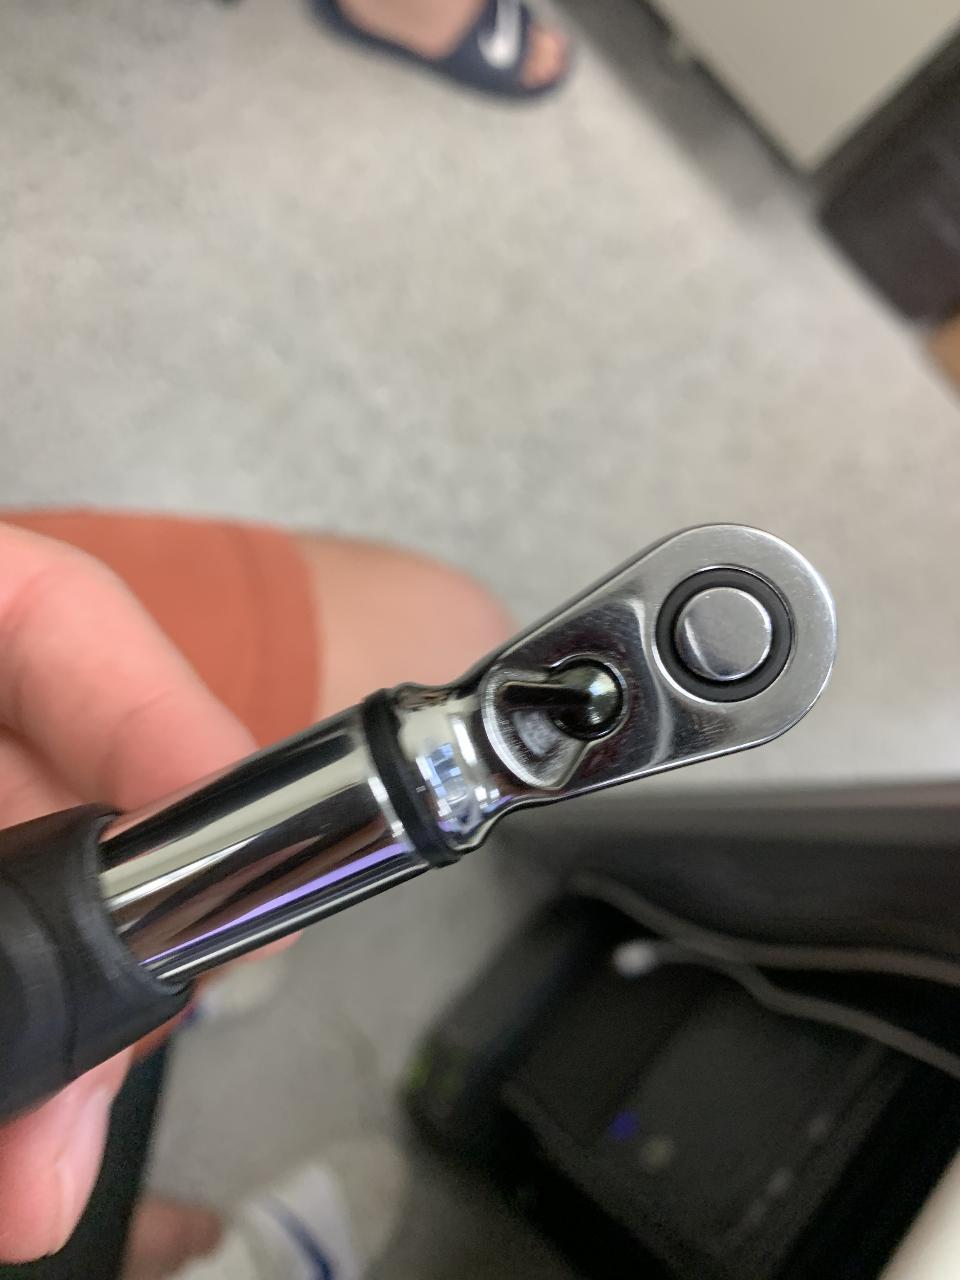Tool: (394, 515, 836, 845)
